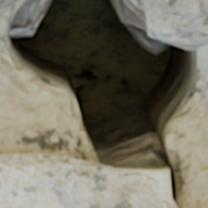brick: (0, 154, 175, 207)
broken_brick: (138, 0, 207, 50), (0, 0, 18, 10)
crack: (2, 0, 206, 207)
